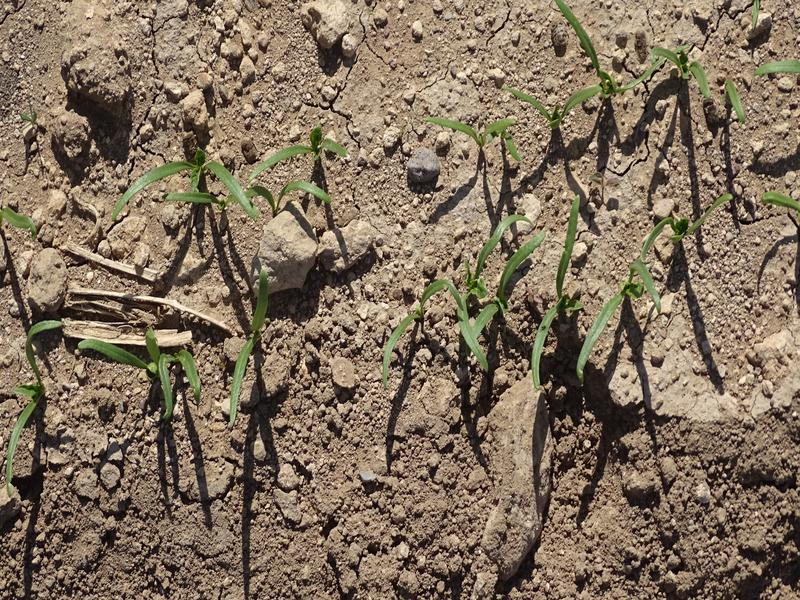Espinaca: (386, 196, 575, 404), (547, 1, 754, 126), (118, 136, 345, 218), (580, 215, 675, 374), (90, 337, 197, 412), (7, 328, 56, 470), (226, 273, 266, 416), (428, 109, 520, 158)
